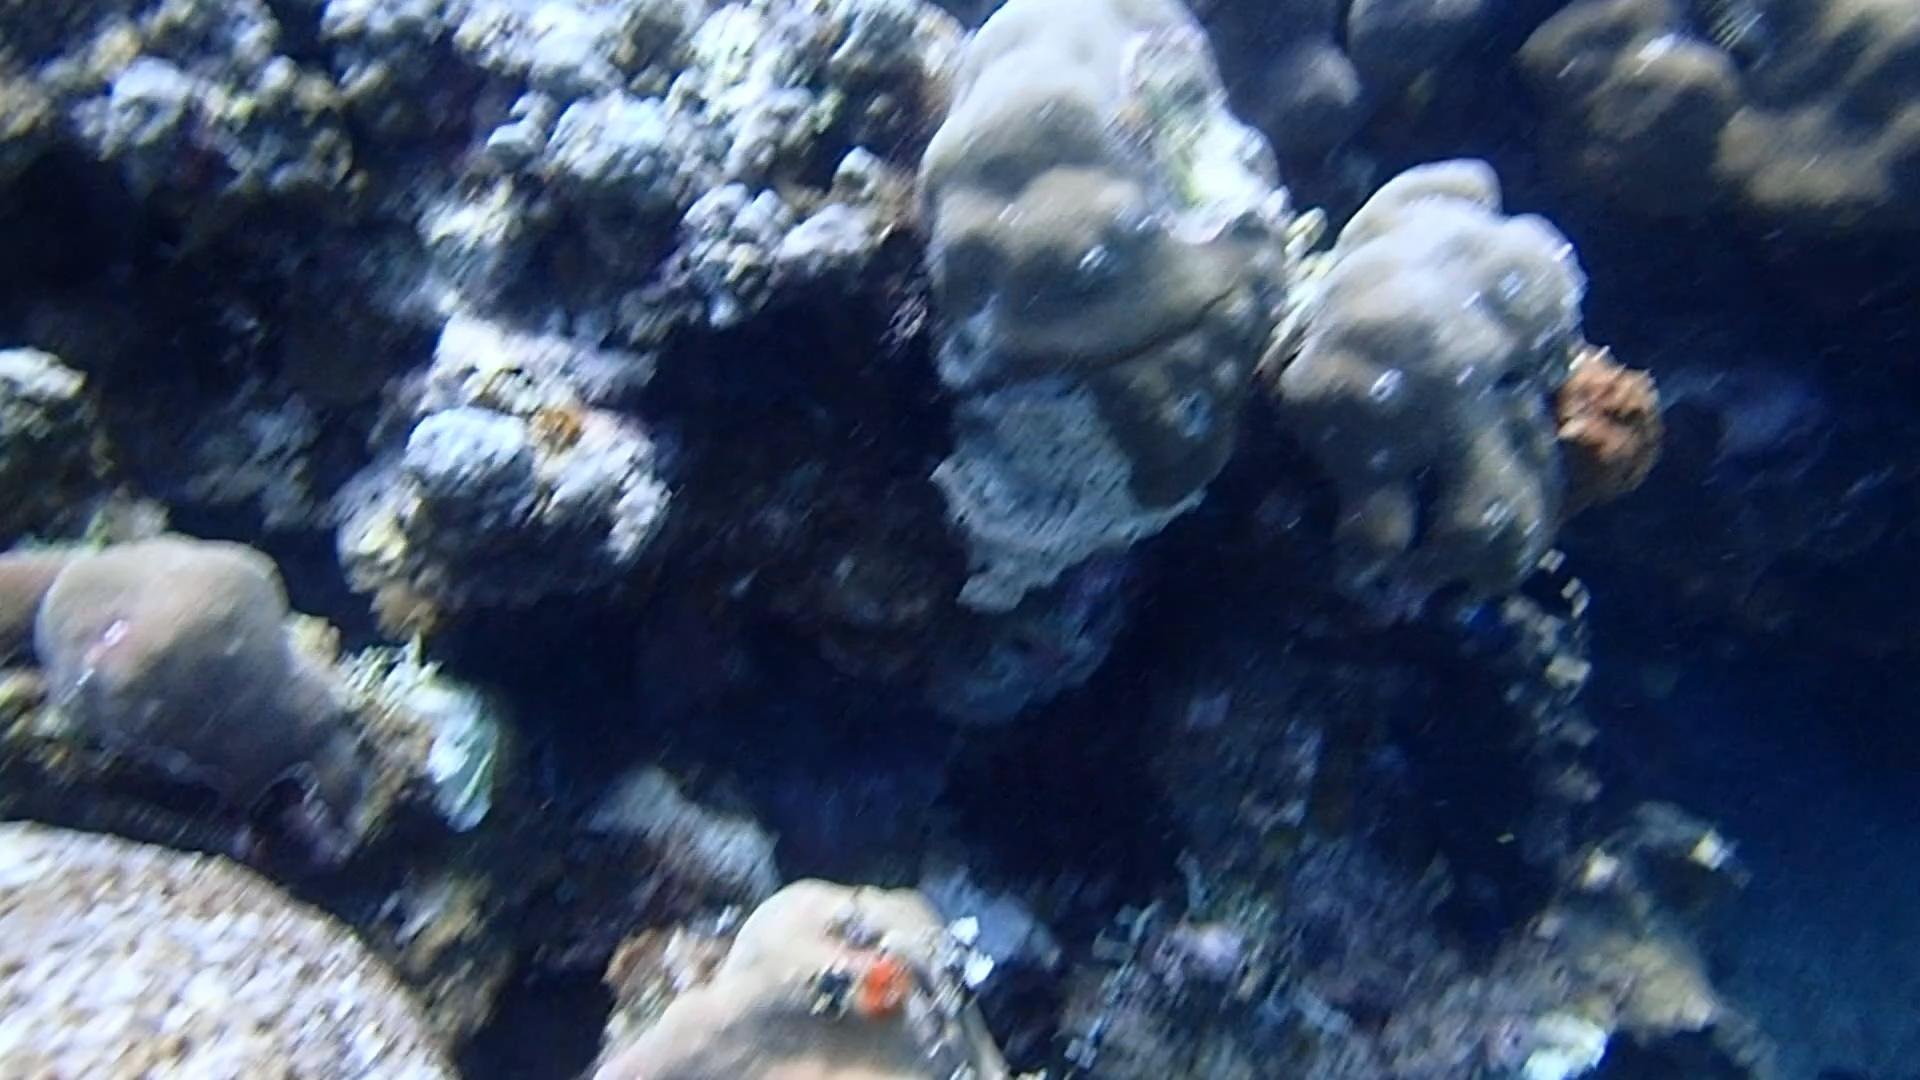Dark Fish: (1511, 558, 1588, 636)
